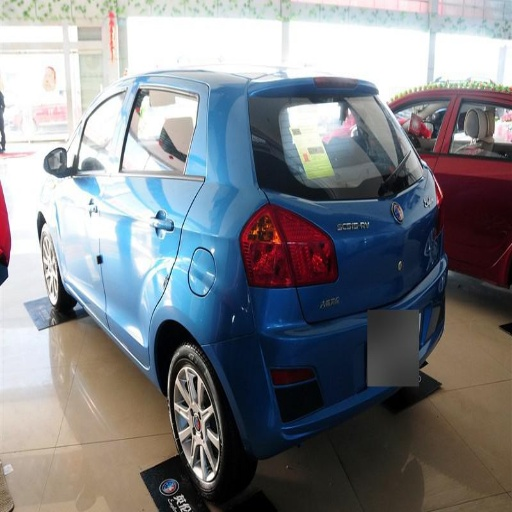back_bumper: (208, 270, 444, 454)
back_glass: (246, 97, 409, 195)
back_left_door: (101, 87, 206, 352)
trunk: (279, 195, 426, 320)
